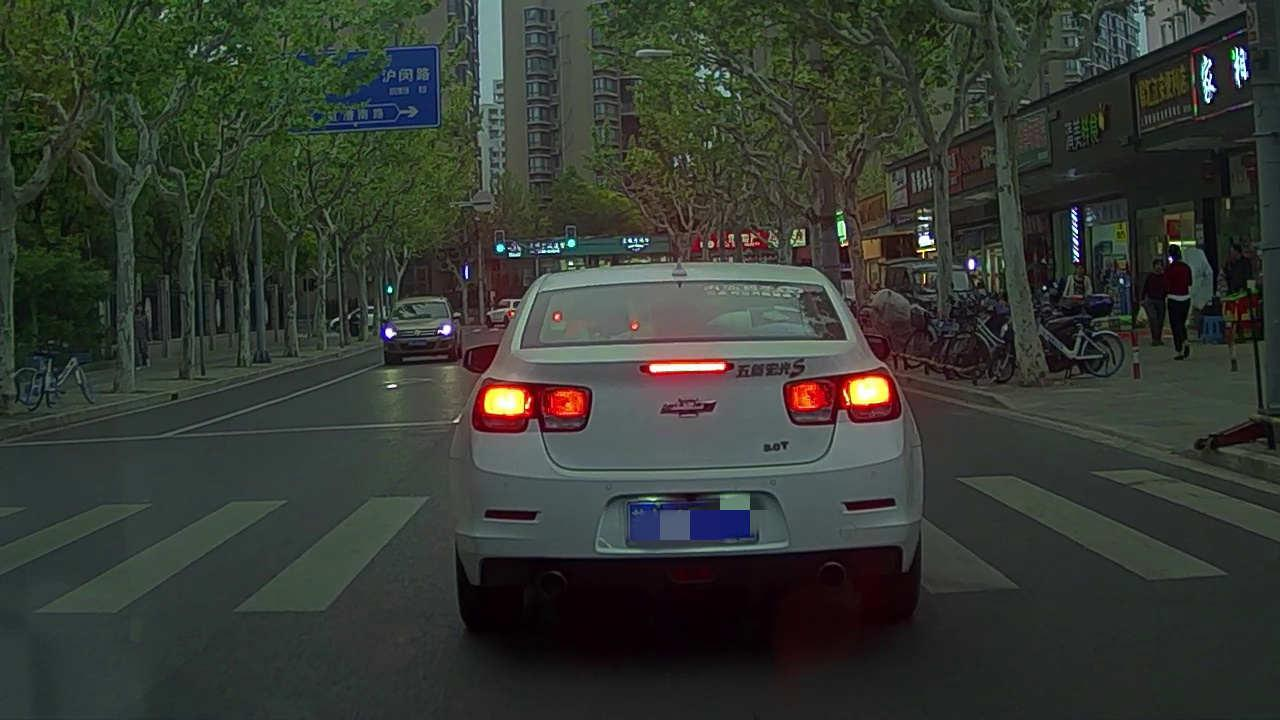traffic_light: (566, 226, 576, 251), (496, 231, 505, 256)
